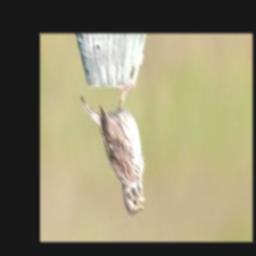Sparrow: (80, 86, 147, 216)
